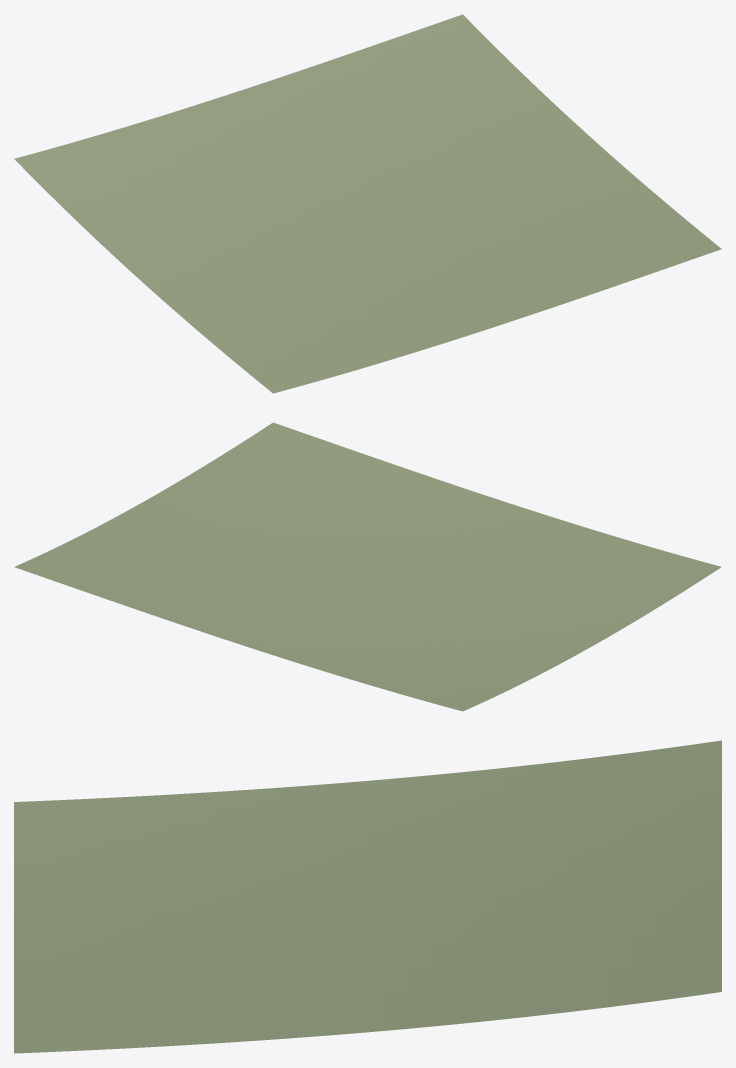
Rendered from valley-9-3.glb.
3 views of the same model, one above another, from view 1: azimuth 30°, elevation 25°; view 2: azimuth 150°, elevation 25°; view 3: azimuth 270°, elevation 25° (orthographic). The views are drawn at different scales.
Visible parts, largest first — view 1: valley-9-3; view 2: valley-9-3; view 3: valley-9-3.
Part boxes in pixels (bbox=[...]): valley-9-3: bbox=[14, 14, 721, 393]; valley-9-3: bbox=[14, 422, 721, 711]; valley-9-3: bbox=[14, 740, 721, 1053].
Size of the model in its own units: 256 by 43.61 by 256.
